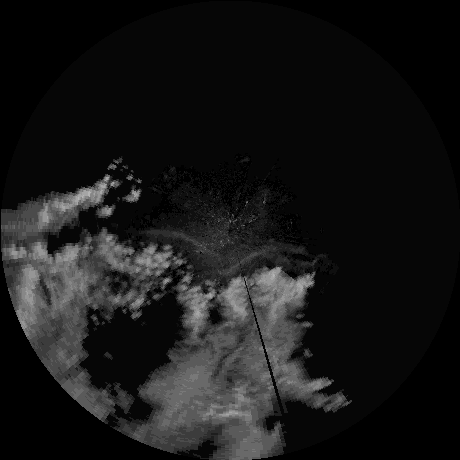frontgust: (137, 225, 218, 260), (227, 243, 317, 273)
